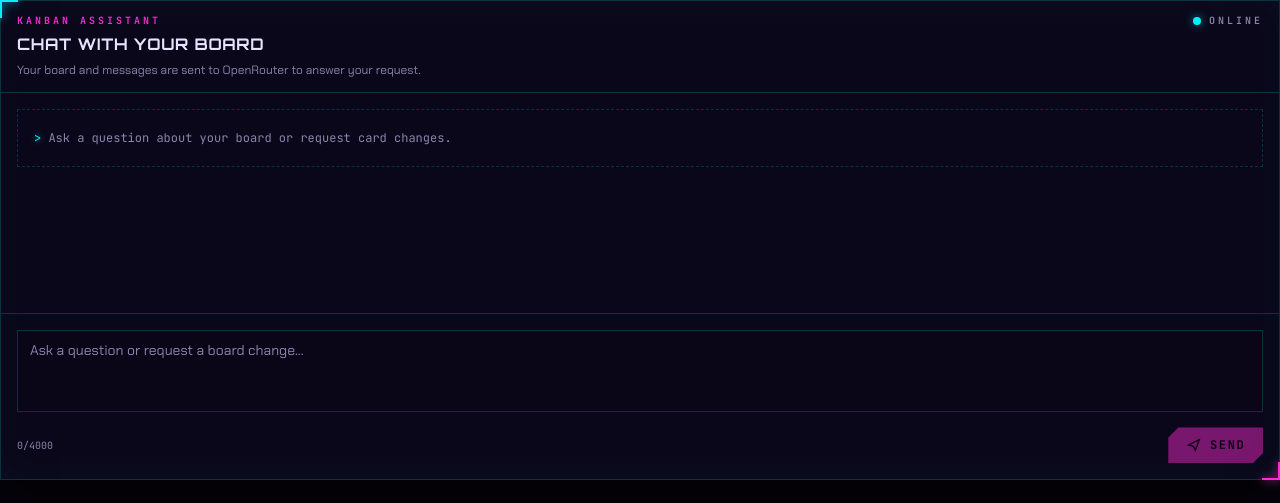
reports when the latest board cannot be loaded after a conflict
In the text box named "Message the assistant": (640, 371) 17,330 -> 1263,412, type "Make an update"
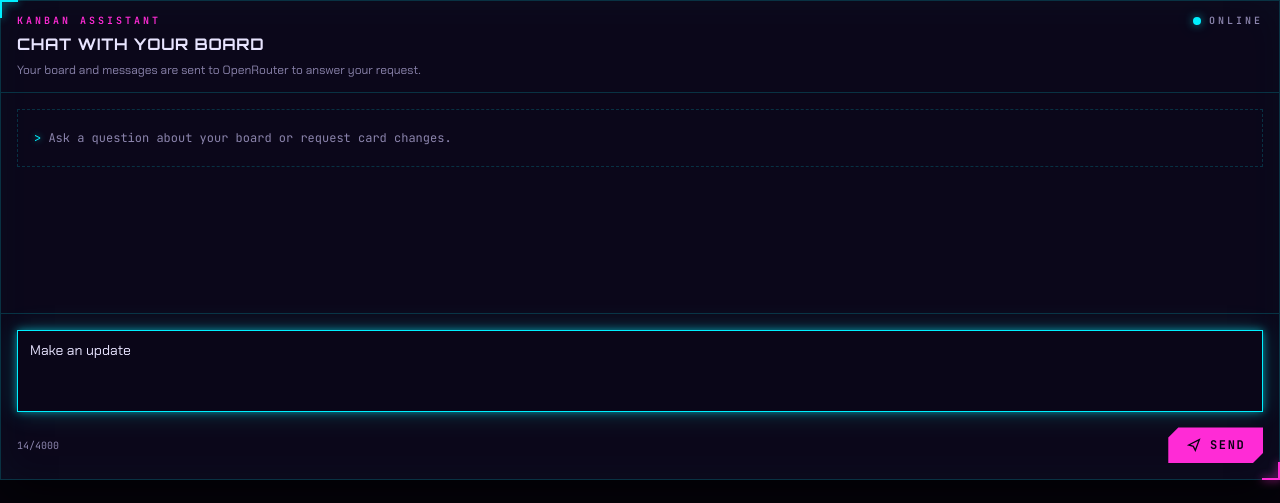
Click the button "Send": (1216, 445) 1168,427 -> 1263,463
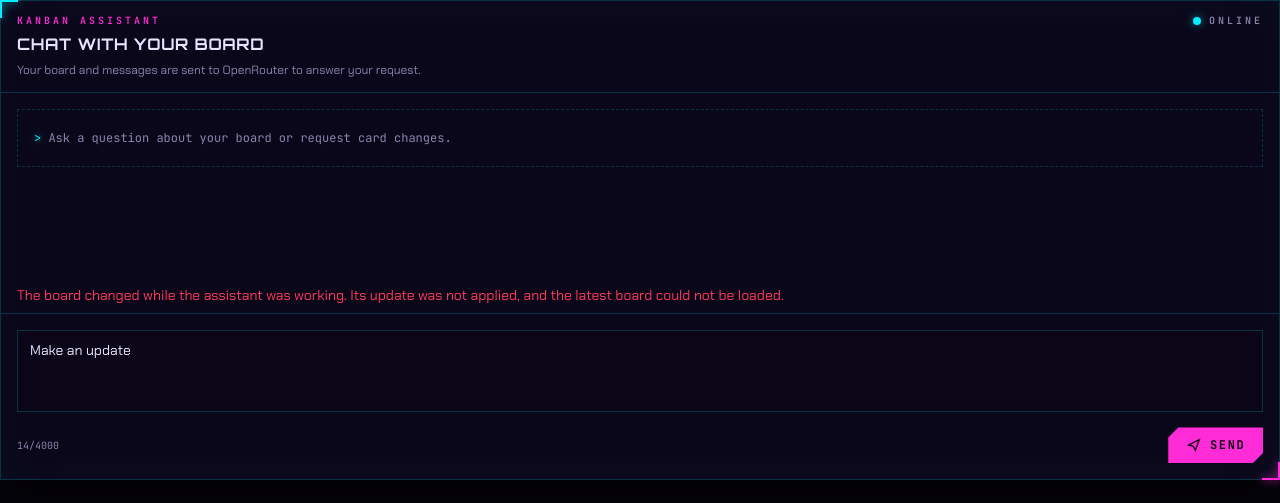
Check: the message shows "latest board could not be loaded", box 17,286 -> 784,304
